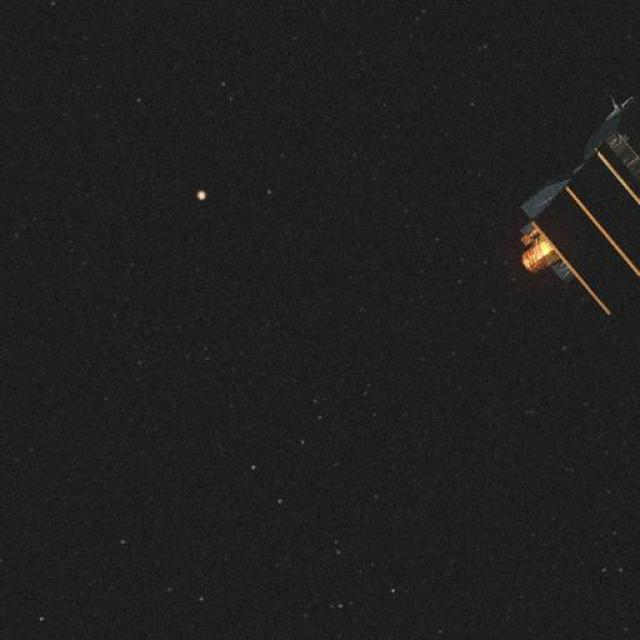soho: (476, 92, 640, 338)
